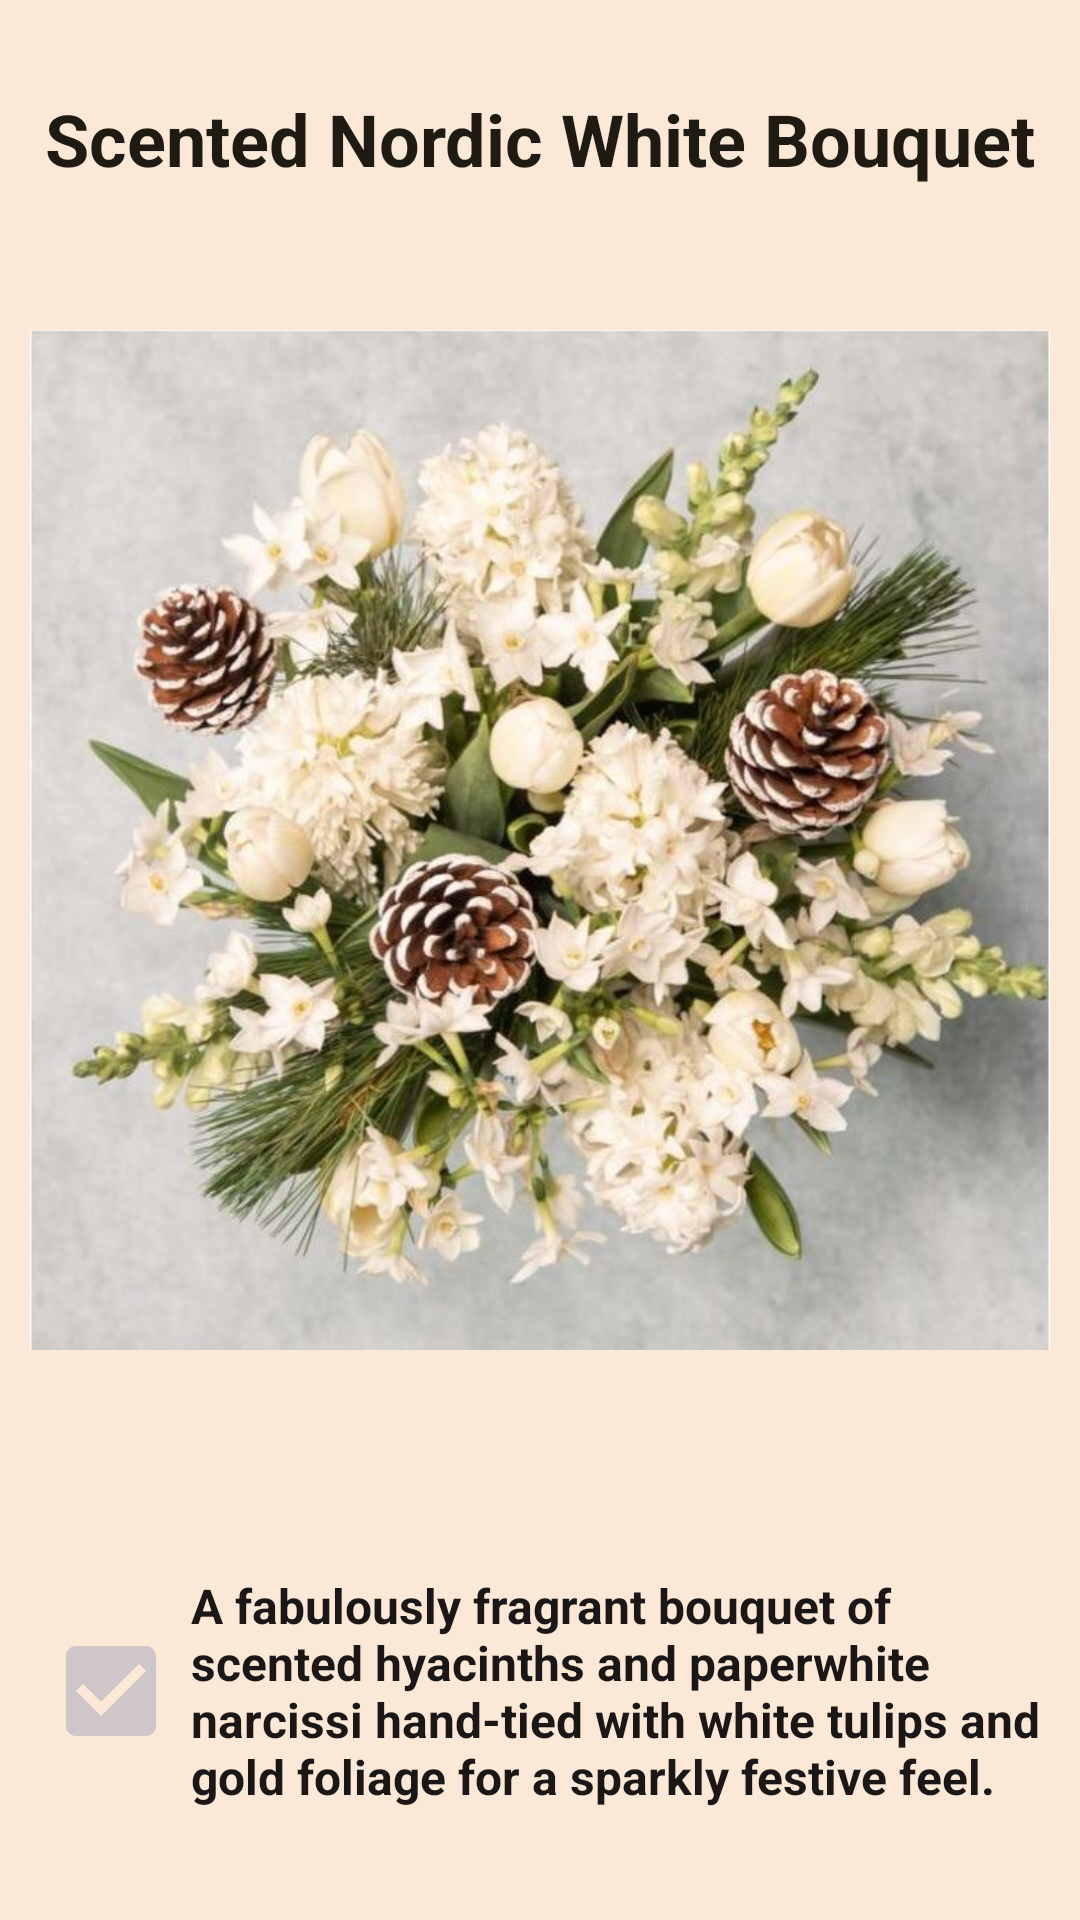

Point at icon controls on the screen. Image size 1080 x 1920, points as (x=x, y=y).
check false: (x=111, y=1691)
